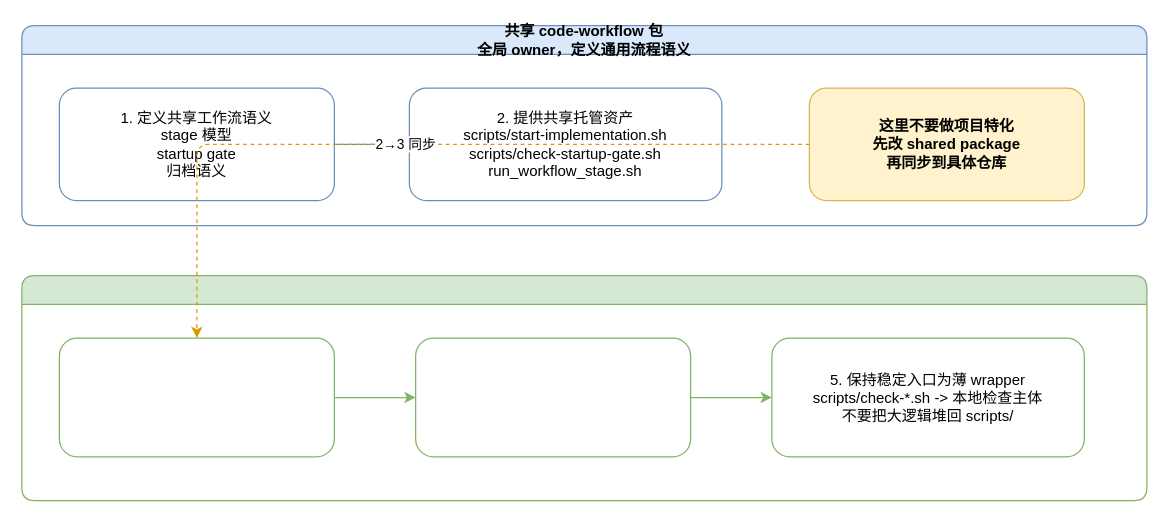
Some shapes in this 1169 by 523 pixel diagram are drawn without their labels. Here are the shapes that lost their labels. From the top down, the box of each, then its label:
(58, 337, 334, 457): 3. 安装项目侧 stage 插件目录 pre-commit-quick.d completion-full.d workflow-governance.d
(414, 337, 691, 457): 4. 由项目决定 每个 stage 跑哪些检查 以及执行顺序
(21, 274, 1147, 501): 项目 override 层 项目在这里决定如何落地 shared workflow
